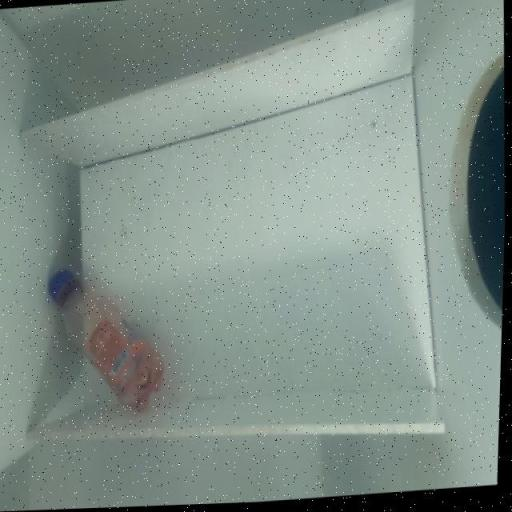plastic: (39, 239, 181, 436)
